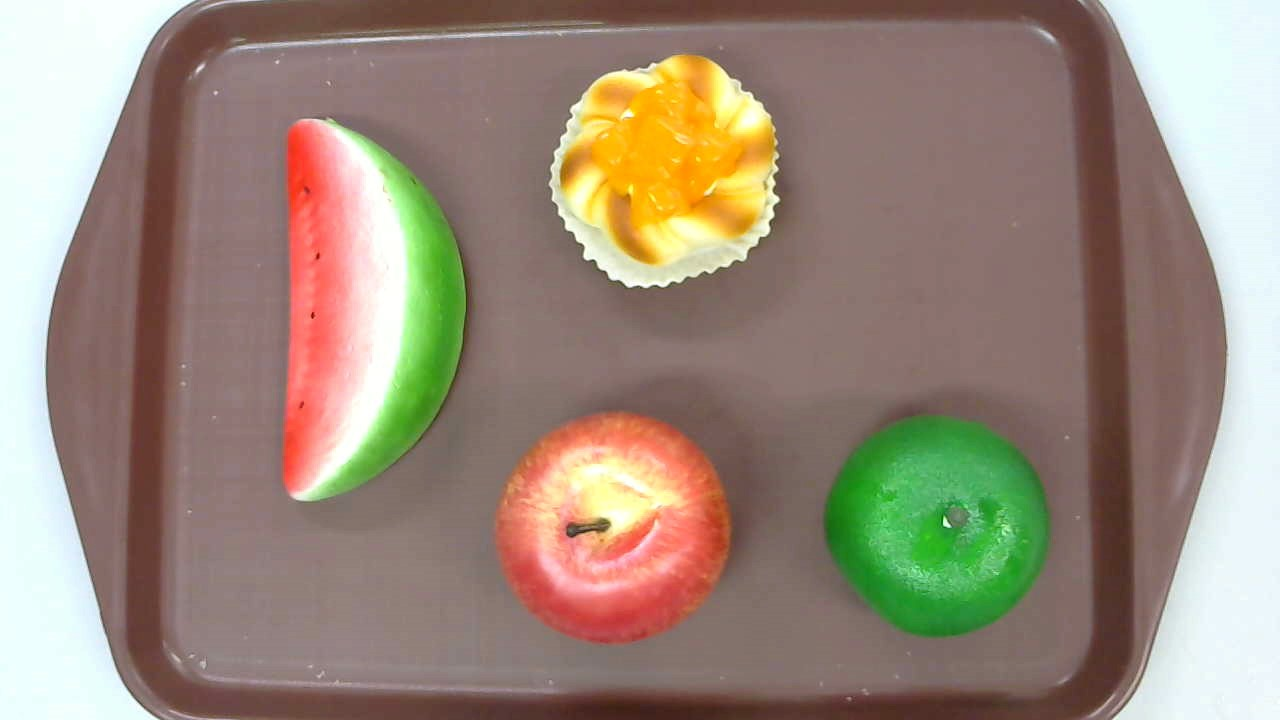green orange: (823, 413, 1050, 636)
mango tart: (550, 53, 780, 289)
red apple: (494, 409, 731, 645)
water melon: (283, 115, 468, 502)
